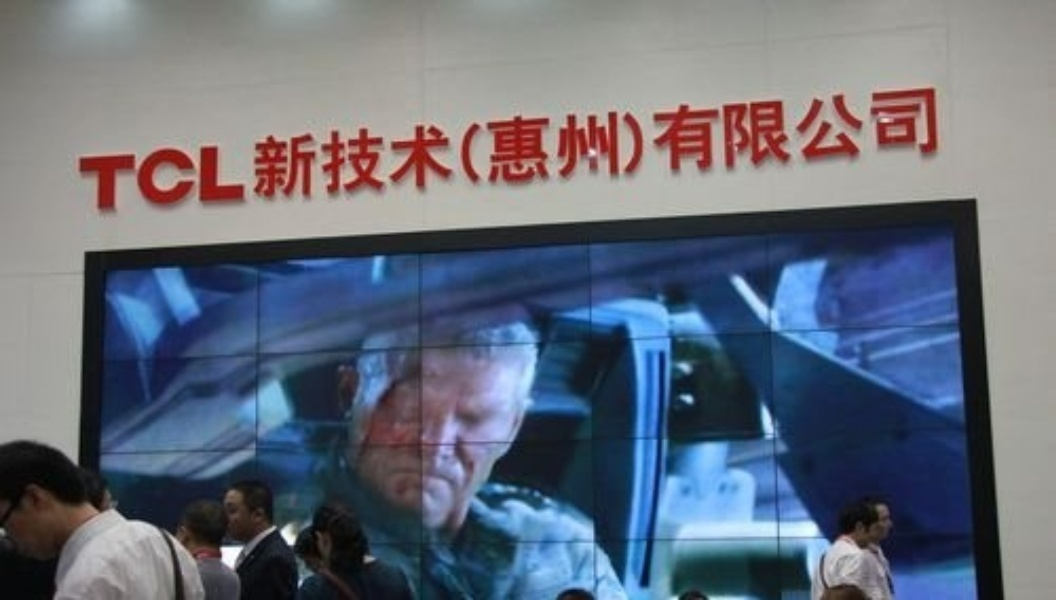text: (81, 83, 96, 220), (97, 83, 112, 220), (113, 83, 128, 220), (129, 83, 144, 220), (145, 83, 160, 220), (161, 83, 176, 220), (177, 83, 192, 220), (193, 83, 208, 220), (209, 83, 224, 220), (225, 83, 240, 220), (241, 83, 256, 220), (257, 83, 272, 220), (273, 83, 288, 220), (289, 83, 304, 220), (305, 83, 320, 220), (321, 83, 336, 220), (337, 83, 352, 220), (353, 83, 368, 220), (369, 83, 384, 220), (385, 83, 400, 220), (401, 83, 416, 220), (417, 83, 432, 220), (433, 83, 448, 220), (449, 83, 464, 220), (465, 83, 480, 220), (481, 83, 496, 220), (497, 83, 512, 220), (513, 83, 528, 220), (529, 83, 544, 220), (545, 83, 560, 220), (561, 83, 576, 220), (577, 83, 592, 220), (593, 83, 608, 220), (609, 83, 624, 220), (625, 83, 640, 220), (641, 83, 656, 220), (657, 83, 672, 220), (673, 83, 688, 220), (689, 83, 704, 220), (705, 83, 720, 220), (721, 83, 736, 220), (737, 83, 752, 220), (753, 83, 768, 220), (769, 83, 784, 220), (785, 83, 800, 220), (801, 83, 816, 220), (817, 83, 832, 220), (833, 83, 848, 220), (849, 83, 864, 220), (865, 83, 880, 220), (881, 83, 896, 220), (897, 83, 912, 220), (913, 83, 928, 220), (929, 83, 942, 220), (77, 83, 80, 220)
